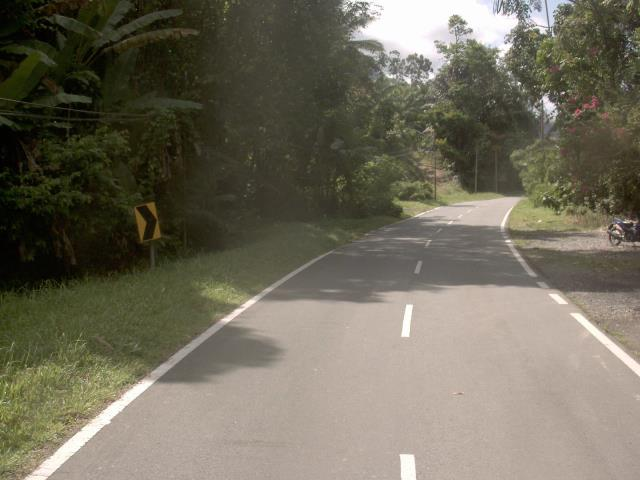traffic_sign: (125, 196, 169, 250)
